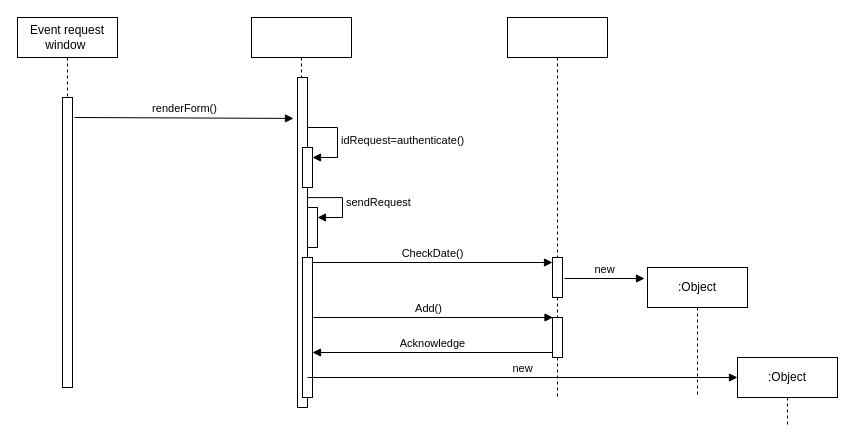
Some shapes in this 855 by 445 pixel diagram are drawn without their labels. The shapes that lost their labels are listed below. From the top down, each one's box as (x1, y1, x2, y2) in pixels, then its label:
(250, 16, 352, 408): Event request
(506, 16, 608, 398): Calendar
